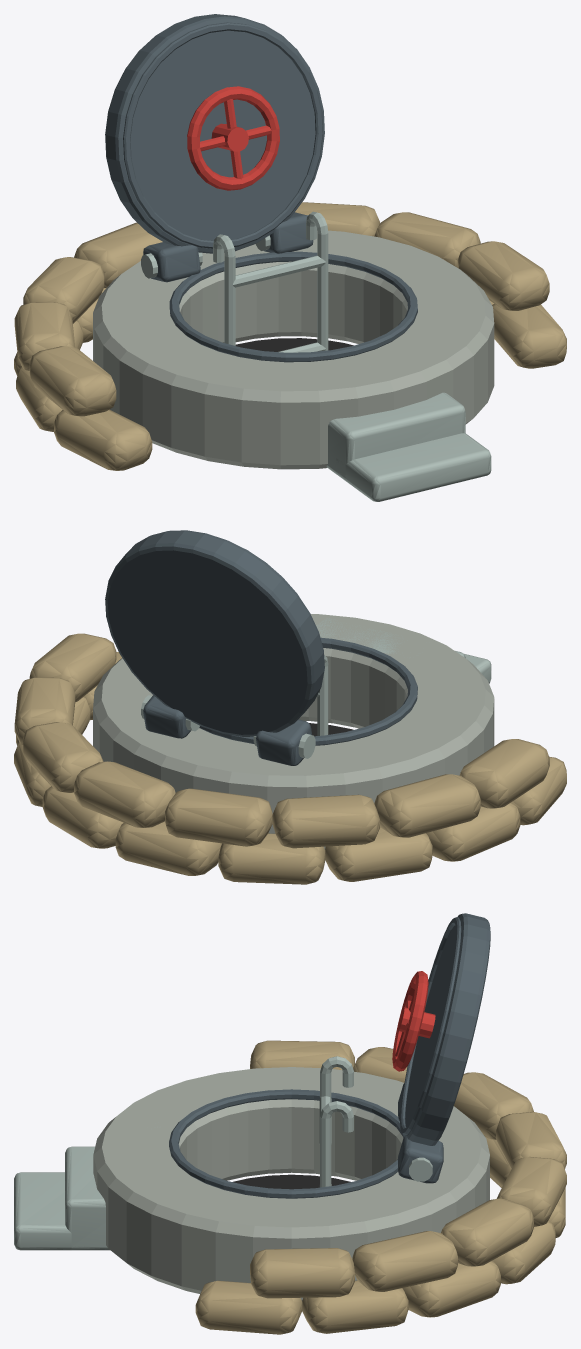
Rendered from bunker_hatch.glb.
The picture shows the model from 3 angles, top to bottom: view 1: azimuth 30°, elevation 25°; view 2: azimuth 150°, elevation 25°; view 3: azimuth 270°, elevation 25°; orthographic projection.
Parts seen in each view (by area): view 1: Keep_Mesh, Occlude_Lid_Mesh; view 2: Keep_Mesh, Occlude_Lid_Mesh; view 3: Keep_Mesh, Occlude_Lid_Mesh.
Part boxes in pixels (x1,y1,x2,y2): Keep_Mesh: (14,202,566,501); Occlude_Lid_Mesh: (105,14,324,282); Keep_Mesh: (14,614,566,884); Occlude_Lid_Mesh: (105,530,324,765); Keep_Mesh: (14,1040,566,1334); Occlude_Lid_Mesh: (392,913,490,1183).
Bounding box in the file's own units: 2.92 × 1.75 × 2.93.
